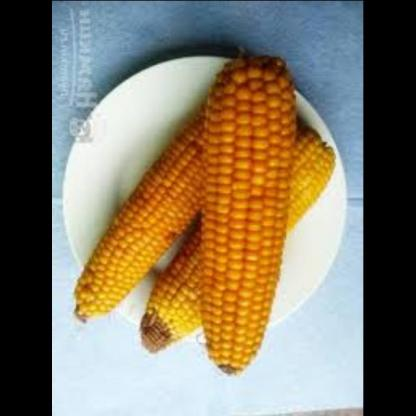corn: (140, 124, 340, 354), (199, 41, 303, 382), (72, 107, 226, 325)
